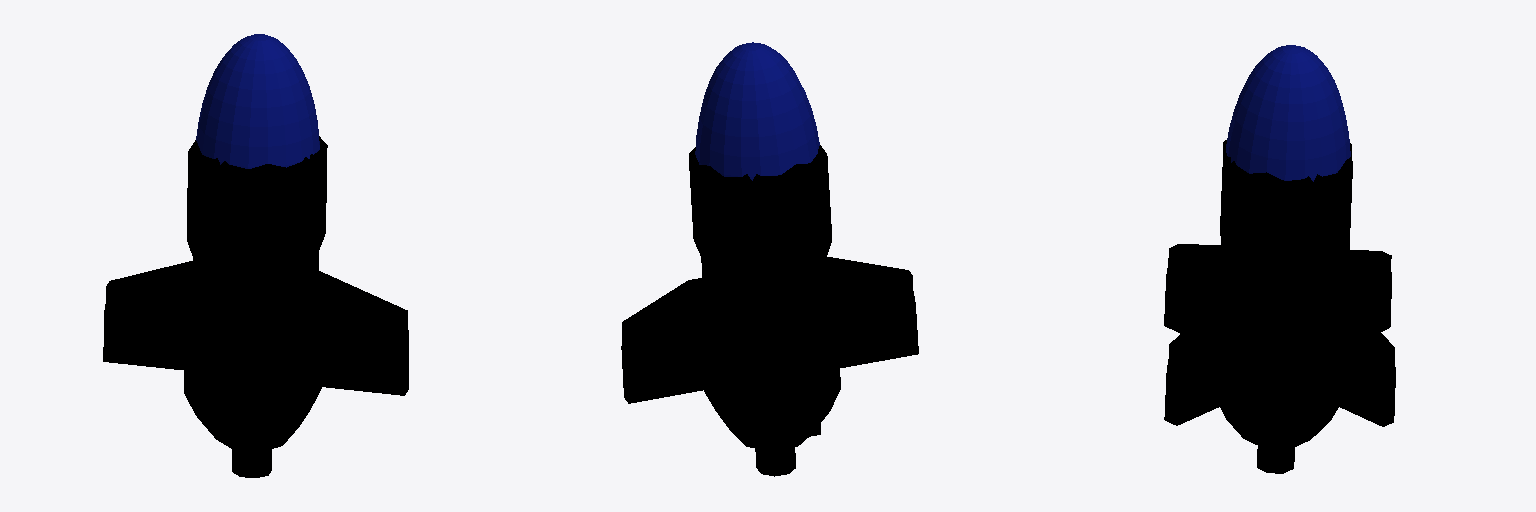
Rendered from BottleRocket.obj.
The picture shows the model from 3 angles: view 1: azimuth 30°, elevation 25°; view 2: azimuth 150°, elevation 25°; view 3: azimuth 270°, elevation 25°; orthographic projection.
Visible parts, largest first — view 1: polySurface1; view 2: polySurface1; view 3: polySurface1.
Part boxes in pixels (bbox=[...]): polySurface1: bbox=[103, 34, 408, 477]; polySurface1: bbox=[621, 42, 918, 476]; polySurface1: bbox=[1164, 45, 1395, 473].
Size of the model in its own units: 6.37 by 12.56 by 6.2.